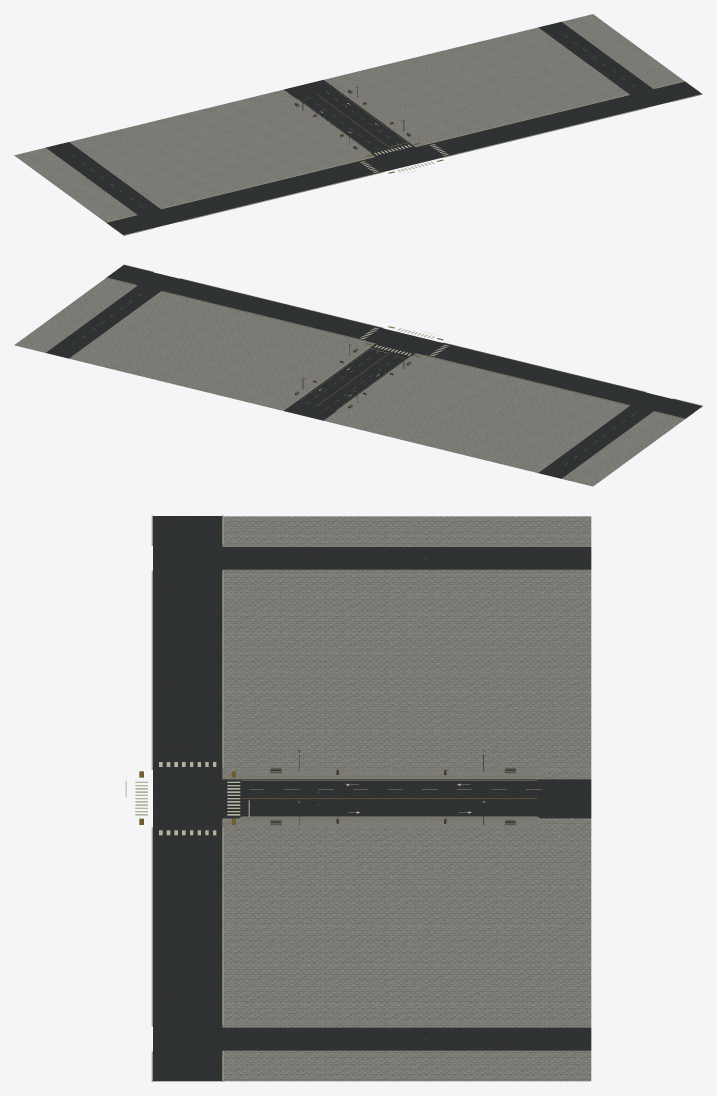
The model's file is new-eden-streets.glb.
The picture shows the model from 3 angles, top to bottom: view 1: azimuth 30°, elevation 25°; view 2: azimuth 150°, elevation 25°; view 3: azimuth 270°, elevation 25°; orthographic projection. The views are drawn at different scales.
Visible parts, largest first — view 1: StreetBlock; view 2: StreetBlock; view 3: StreetBlock.
Boxes of the visible parts, bbox=[...] form: StreetBlock: bbox=[14, 14, 702, 235]; StreetBlock: bbox=[14, 264, 702, 486]; StreetBlock: bbox=[125, 515, 591, 1081].
Bounding box in the file's own units: 348 × 6.4 × 121.
1 material, 1 textured.
